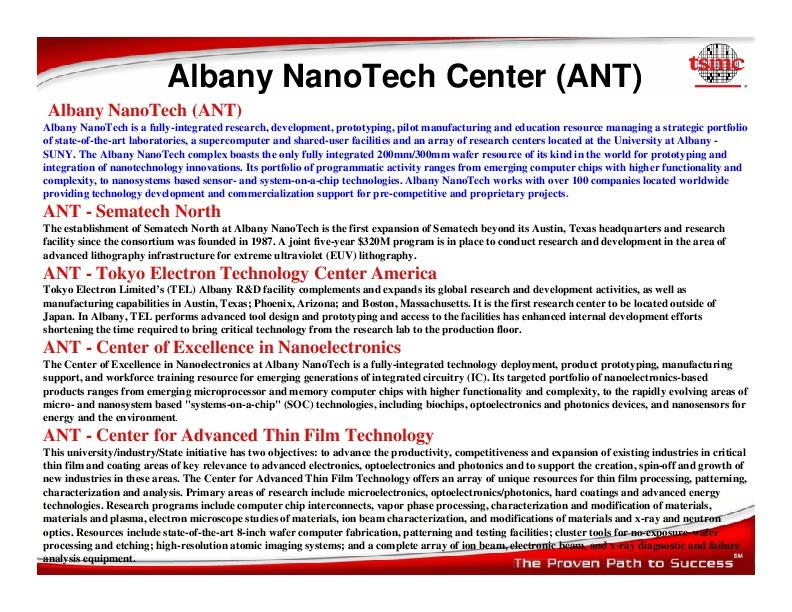paragraph: (38, 445, 757, 564), (38, 117, 760, 206), (38, 356, 753, 425), (38, 280, 738, 337), (40, 218, 736, 265)
subtitle: (41, 424, 442, 449), (38, 330, 409, 356), (43, 98, 249, 121), (38, 199, 225, 222)
title: (161, 51, 650, 95)
